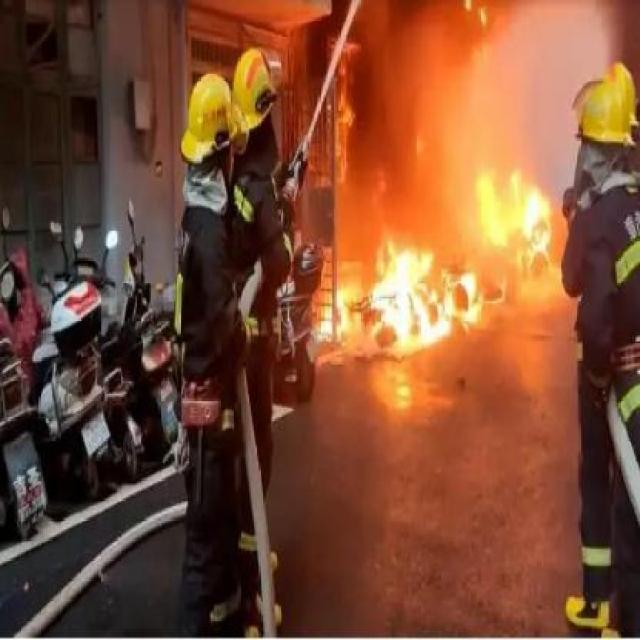Fire: (374, 245, 477, 343), (476, 166, 552, 251), (336, 40, 353, 196), (322, 284, 348, 338)
Smoke: (356, 0, 470, 222)
